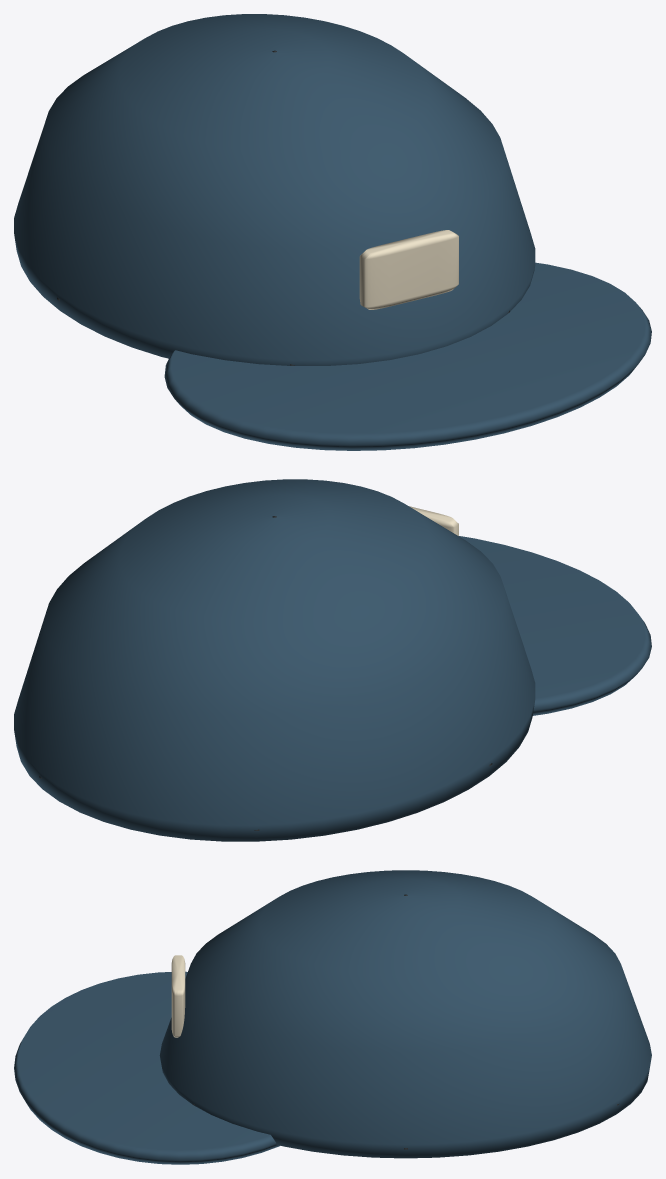
File: 02-cap.glb
3 views of the same model, one above another, from view 1: azimuth 30°, elevation 25°; view 2: azimuth 150°, elevation 25°; view 3: azimuth 270°, elevation 25° (orthographic). The views are drawn at different scales.
Visible parts, largest first — view 1: 02-cap; view 2: 02-cap; view 3: 02-cap.
Boxes of the visible parts, box(x1,y1,x2,y2) form: 02-cap: box(14, 14, 651, 450); 02-cap: box(14, 479, 651, 841); 02-cap: box(14, 870, 651, 1164).
Size of the model in its own units: 0.214 by 0.098 by 0.3142.
